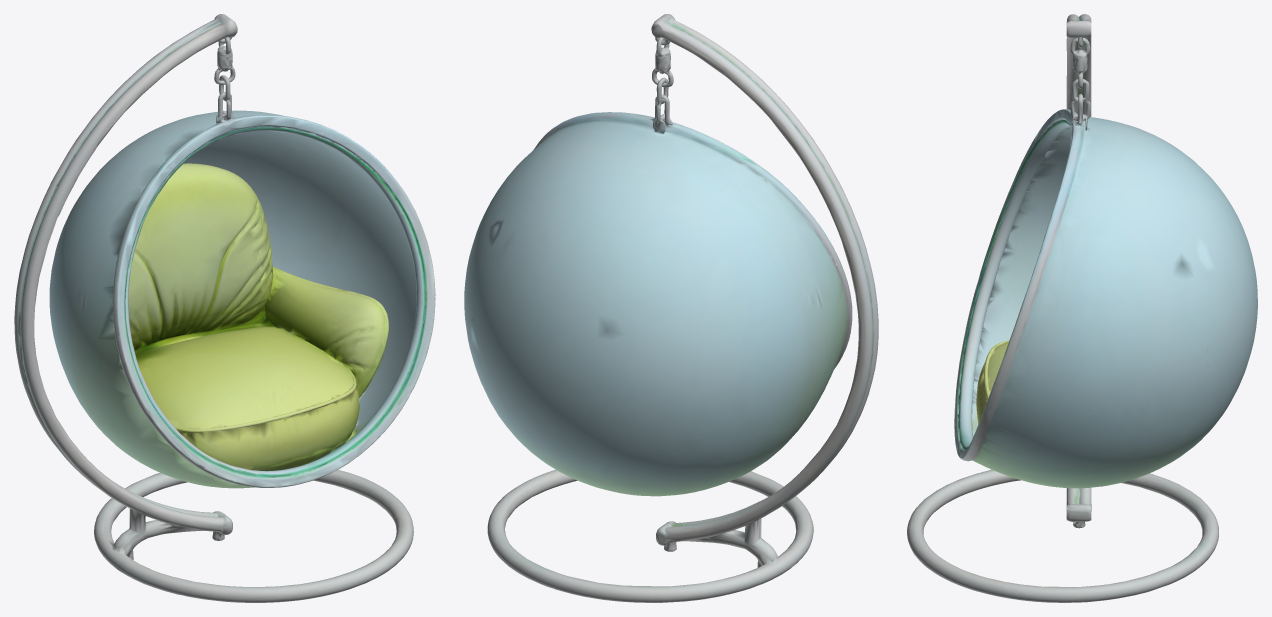
The model's file is hanging-bubble-chair.glb.
3 views of the same model, side by side, from view 1: azimuth 30°, elevation 25°; view 2: azimuth 150°, elevation 25°; view 3: azimuth 270°, elevation 25° (orthographic). The views are drawn at different scales.
Parts seen in each view (by area): view 1: material; view 2: material; view 3: material.
Boxes of the visible parts, x1,y1,x2,y2 form: material: [14, 14, 435, 602]; material: [464, 14, 878, 602]; material: [907, 14, 1257, 602].
Size of the model in its own units: 0.7551 by 0.9816 by 0.6143.
1 material, 1 textured.
